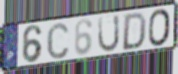6: (21, 24, 44, 64), (74, 17, 94, 57)
C: (46, 20, 70, 61)
D: (121, 11, 148, 52)
O: (148, 7, 172, 48)
U: (97, 13, 121, 54)
